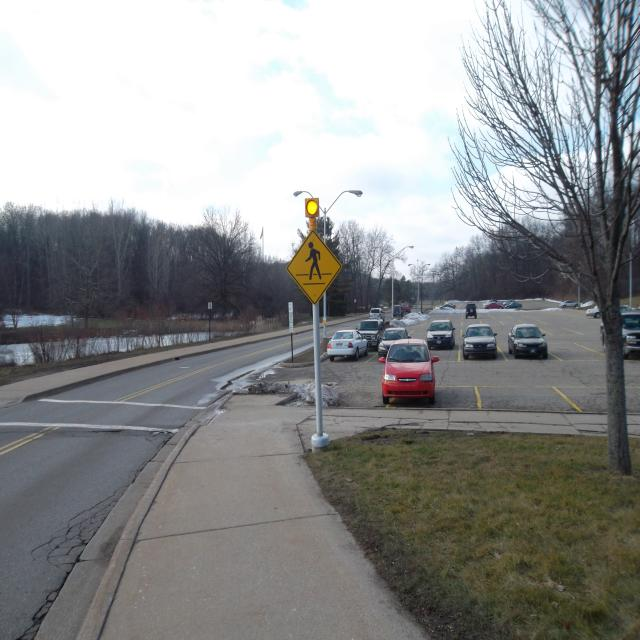warning: (286, 228, 342, 306)
